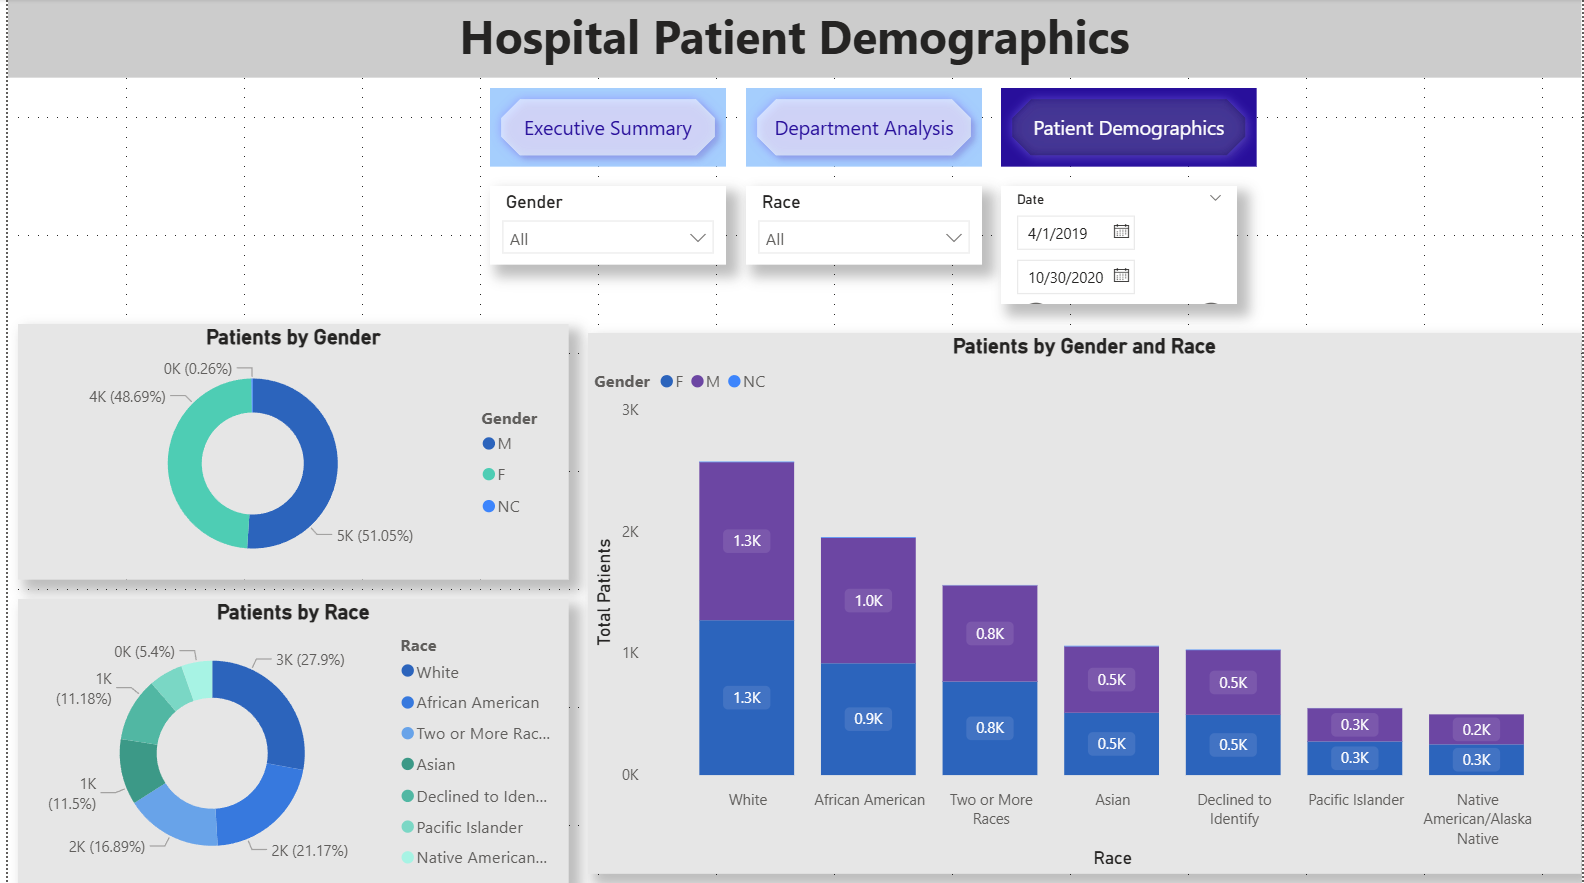

Layout of this report page (visuals, bound fields, positions):
{"tool":"powerbi","page":{"name":"Patient Demographics","canvas":[1280,720],"ordinal":3},"visuals":[{"type":"textbox","box":[0,0,1280,64],"z":0},{"type":"actionButton","box":[392,72,192,64],"z":1000},{"type":"actionButton","box":[600,72,192,64],"z":2000},{"type":"actionButton","box":[808,72,208,64],"z":3000},{"type":"slicer","fields":{"Values":["Dim_Gender.Gender"]},"box":[392,152,192,64],"z":4000},{"type":"slicer","fields":{"Values":["Dim_Race.Race"]},"box":[600,152,192,64],"z":5000},{"type":"slicer","fields":{"Values":["Dim_Date.Date"]},"box":[808,152,192,96],"z":6000},{"type":"donutChart","title":"Patients by Gender","fields":{"Category":["Dim_Gender.Gender"],"Y":["Fact_Patient.Total Patients"]},"box":[8,264,448,208],"z":7000},{"type":"donutChart","title":"Patients by Race","fields":{"Y":["Fact_Patient.Total Patients"],"Category":["Dim_Race.Race"]},"box":[8,488,448,232],"z":8000},{"type":"columnChart","title":"Patients by Gender and Race","fields":{"Category":["Dim_Race.Race"],"Series":["Fact_Patient.Gender"],"Y":["Fact_Patient.Total Patients"]},"box":[472,272,808,440],"z":9000}]}

Visuals, with their boxes in screenshot pixels (x1, y1, x2, y2), scaled from the page's 1280x720 canvas onto the 1584x883 screenshot:
textbox: l=0, t=0, r=1583, b=78
actionButton: l=485, t=88, r=723, b=167
actionButton: l=742, t=88, r=980, b=167
actionButton: l=1000, t=88, r=1257, b=167
slicer - Dim_Gender.Gender: l=485, t=186, r=723, b=265
slicer - Dim_Race.Race: l=742, t=186, r=980, b=265
slicer - Dim_Date.Date: l=1000, t=186, r=1238, b=304
"Patients by Gender" donutChart: l=10, t=324, r=564, b=579
"Patients by Race" donutChart: l=10, t=598, r=564, b=882
"Patients by Gender and Race" columnChart: l=584, t=334, r=1583, b=873
